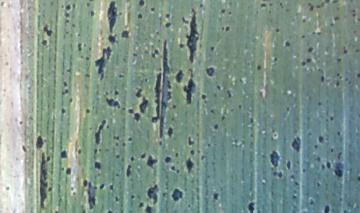tarspot: (151, 37, 172, 141), (37, 150, 52, 212), (185, 7, 200, 64), (93, 44, 113, 82), (105, 1, 123, 33), (86, 177, 99, 212), (183, 67, 194, 106), (93, 118, 107, 146), (146, 183, 159, 205), (267, 149, 281, 169), (104, 95, 121, 111), (289, 135, 303, 154), (145, 152, 159, 171), (136, 96, 149, 115), (170, 186, 184, 202), (184, 157, 196, 175), (41, 23, 54, 38), (334, 161, 344, 180), (106, 33, 120, 45), (34, 135, 45, 150), (175, 69, 185, 84), (204, 65, 216, 77), (133, 111, 142, 125), (185, 134, 195, 146), (150, 47, 160, 59), (125, 163, 133, 178), (306, 1, 315, 14), (120, 29, 131, 39), (133, 86, 143, 97), (92, 161, 103, 171), (59, 148, 68, 160), (39, 38, 51, 47), (284, 158, 292, 171), (247, 200, 255, 213), (166, 126, 174, 139), (225, 87, 233, 100), (212, 190, 220, 202), (125, 105, 135, 114), (76, 41, 83, 53), (322, 204, 331, 213), (163, 155, 172, 164), (179, 15, 189, 23), (163, 21, 173, 29), (341, 44, 349, 54), (20, 144, 28, 154), (88, 7, 95, 18), (65, 166, 72, 177), (316, 134, 324, 143), (113, 87, 121, 96), (136, 11, 144, 20), (126, 135, 135, 143), (306, 46, 315, 54), (61, 88, 70, 96), (4, 183, 12, 192), (143, 205, 152, 213), (136, 1, 146, 8), (308, 196, 315, 206), (189, 148, 196, 158), (108, 183, 115, 193), (114, 194, 121, 204), (277, 1, 284, 11), (325, 159, 331, 170), (336, 150, 342, 161), (319, 73, 325, 84), (164, 12, 172, 20), (328, 21, 336, 29), (332, 14, 340, 22), (137, 200, 145, 208), (292, 180, 300, 188), (148, 6, 157, 13), (138, 151, 145, 160), (64, 3, 71, 12), (63, 11, 72, 18), (82, 178, 88, 188), (224, 25, 231, 33), (306, 56, 313, 64), (314, 154, 321, 162), (314, 180, 321, 188), (333, 79, 340, 87), (83, 72, 90, 80), (112, 134, 120, 141), (248, 116, 255, 124), (204, 141, 211, 149), (277, 170, 283, 179), (215, 83, 221, 92), (319, 162, 325, 171), (335, 70, 341, 79), (116, 73, 125, 79), (71, 2, 77, 11), (64, 68, 73, 74), (93, 147, 98, 157), (178, 42, 185, 49), (284, 40, 291, 47), (300, 60, 307, 67), (291, 193, 298, 200), (328, 115, 335, 122), (316, 100, 323, 107), (60, 107, 67, 114), (76, 148, 83, 155), (16, 119, 23, 126), (219, 114, 226, 121), (285, 105, 292, 112), (289, 173, 296, 180), (197, 2, 205, 8), (129, 154, 135, 162), (220, 7, 226, 15), (213, 123, 219, 131), (259, 3, 267, 9), (62, 80, 68, 88), (63, 18, 71, 24), (99, 181, 105, 189), (115, 153, 121, 161), (174, 151, 180, 159), (272, 131, 278, 139), (315, 2, 321, 10), (68, 185, 76, 191), (356, 70, 360, 81), (104, 209, 115, 213), (200, 93, 207, 99), (85, 107, 91, 114), (156, 141, 163, 147), (329, 147, 335, 154), (336, 57, 342, 64), (272, 55, 278, 62), (143, 77, 149, 84), (131, 52, 138, 58), (69, 22, 75, 29), (129, 193, 135, 200), (175, 168, 181, 175), (97, 146, 103, 153), (114, 141, 120, 148), (300, 33, 306, 40), (185, 203, 192, 209), (209, 108, 215, 115), (350, 12, 357, 18), (336, 129, 341, 137), (200, 154, 205, 162), (237, 102, 242, 110), (301, 166, 306, 174), (256, 64, 262, 70), (171, 103, 177, 109), (68, 97, 74, 103), (84, 55, 90, 61), (301, 18, 307, 24), (310, 29, 316, 35), (71, 190, 77, 196), (208, 45, 215, 50), (271, 170, 276, 177), (170, 164, 175, 171), (79, 53, 84, 60), (1, 1, 6, 8), (316, 30, 321, 37), (155, 29, 160, 36), (356, 174, 360, 182), (331, 1, 339, 5), (313, 143, 318, 149), (274, 28, 280, 33), (343, 76, 348, 82), (121, 141, 126, 147), (87, 45, 92, 51), (355, 47, 360, 53), (320, 1, 325, 7), (351, 7, 356, 13), (114, 172, 120, 177), (85, 2, 90, 8), (227, 9, 231, 16), (342, 208, 347, 213), (268, 2, 273, 7), (203, 99, 207, 105), (324, 1, 330, 4), (87, 1, 96, 3)
